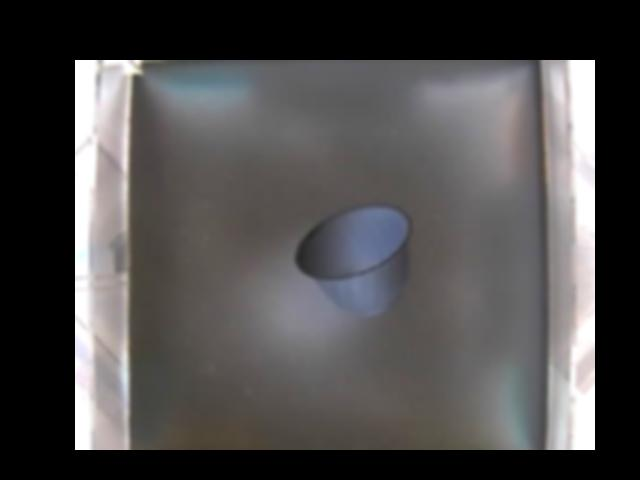Cup: (294, 202, 413, 313)
